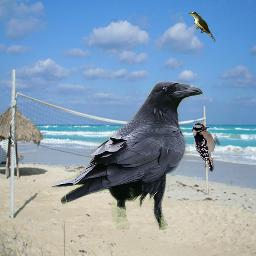Crow: (50, 81, 203, 230)
Cuckoo: (189, 11, 216, 42)
Woodpecker: (192, 123, 220, 172)
